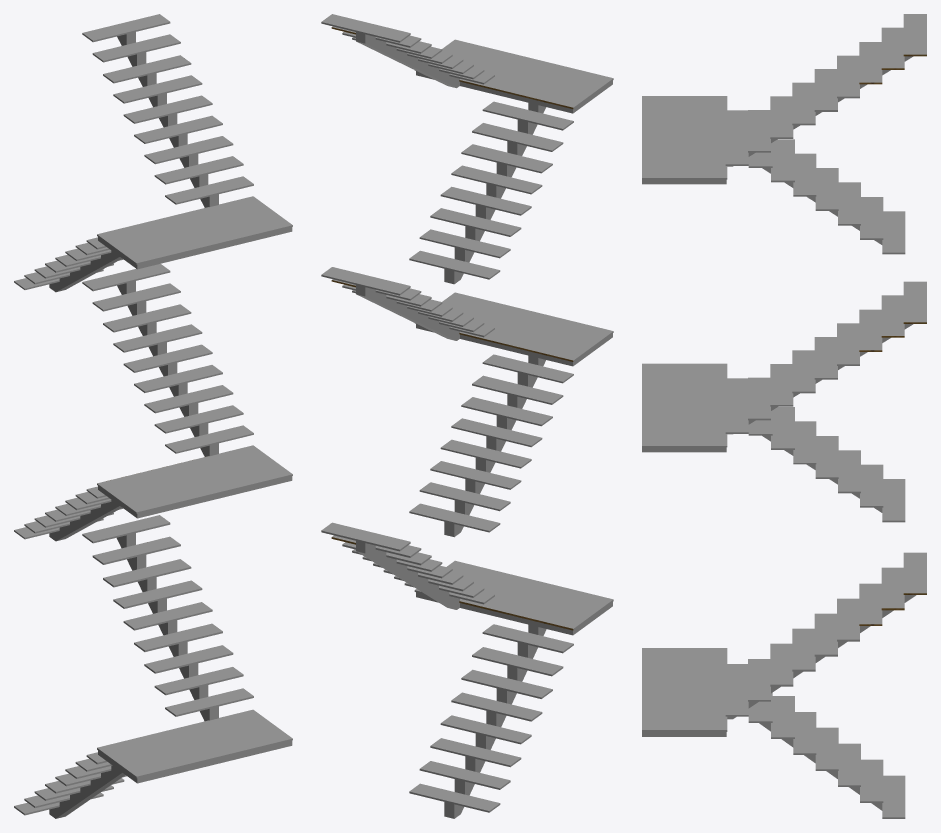
The model's file is cauthang.gltf.
The picture shows the model from 3 angles, left to right: view 1: azimuth 30°, elevation 25°; view 2: azimuth 150°, elevation 25°; view 3: azimuth 270°, elevation 25°; orthographic projection. The views are drawn at different scales.
Visible parts, largest first — view 1: cauthang; view 2: cauthang; view 3: cauthang.
Boxes of the visible parts, <box> form: cauthang: <box>14,14,292,818</box>; cauthang: <box>321,14,613,818</box>; cauthang: <box>642,14,926,818</box>.
Bounding box in the file's own units: 2.3 × 10.73 × 3.37.
Materials: 2 (1 with a texture image).
